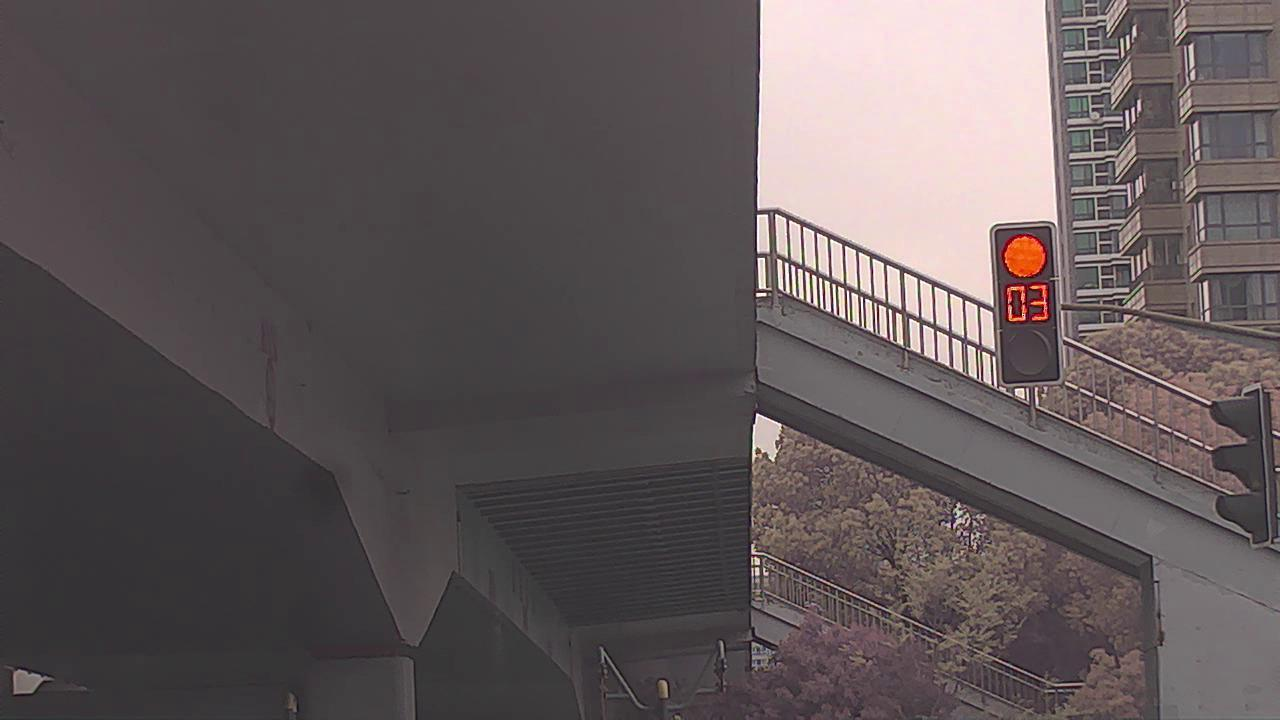traffic_light: (995, 231, 1057, 380)
